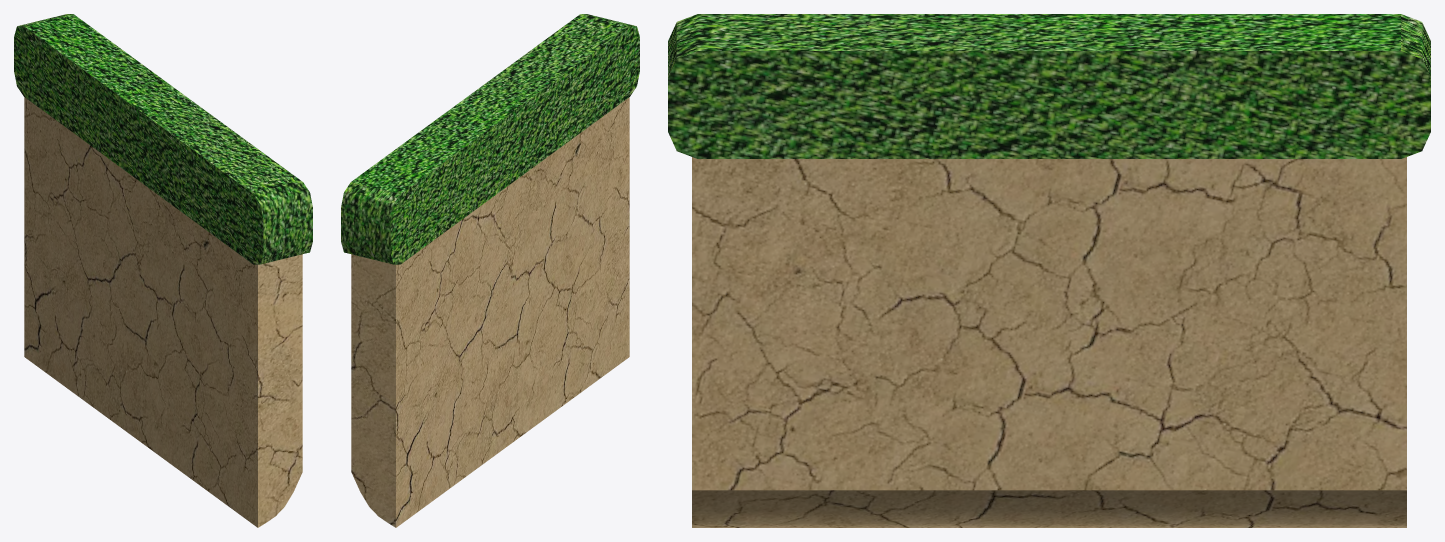
File: enlaceCamelloCurva.fbx
3 renders of one model, left to right at view 1: azimuth 30°, elevation 25°; view 2: azimuth 150°, elevation 25°; view 3: azimuth 270°, elevation 25°, orthographic. The views are drawn at different scales.
Visible parts, largest first — view 1: EnlacePlataformaCurvaCamello, tapaEnlacePlataformaCurvaCamello; view 2: EnlacePlataformaCurvaCamello, tapaEnlacePlataformaCurvaCamello; view 3: EnlacePlataformaCurvaCamello, tapaEnlacePlataformaCurvaCamello.
Part boxes in pixels (box(x1,y1,x2,y2)): EnlacePlataformaCurvaCamello: box(24, 97, 302, 527); tapaEnlacePlataformaCurvaCamello: box(14, 14, 312, 264); EnlacePlataformaCurvaCamello: box(351, 97, 629, 527); tapaEnlacePlataformaCurvaCamello: box(341, 14, 639, 264); EnlacePlataformaCurvaCamello: box(692, 157, 1406, 527); tapaEnlacePlataformaCurvaCamello: box(668, 14, 1430, 158).
Bounding box in the file's own units: 0.3683 × 2.36 × 3.2.
